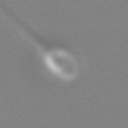normal: (1, 4, 51, 52)
